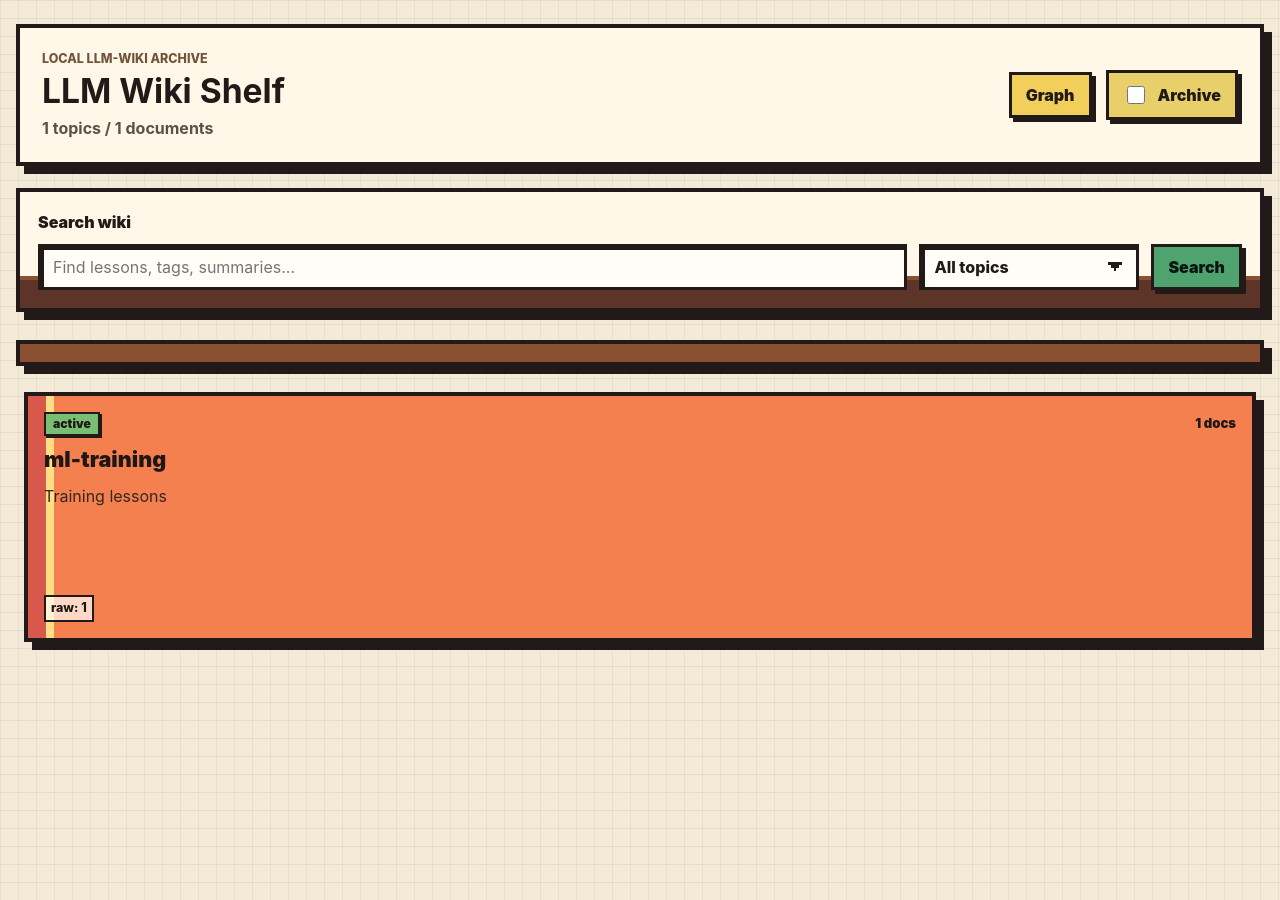
it: App › clears search results when archive visibility changes
Click the checkbox labelled "Archive" at x=1136, y=95, box [1126,86,1144,104]
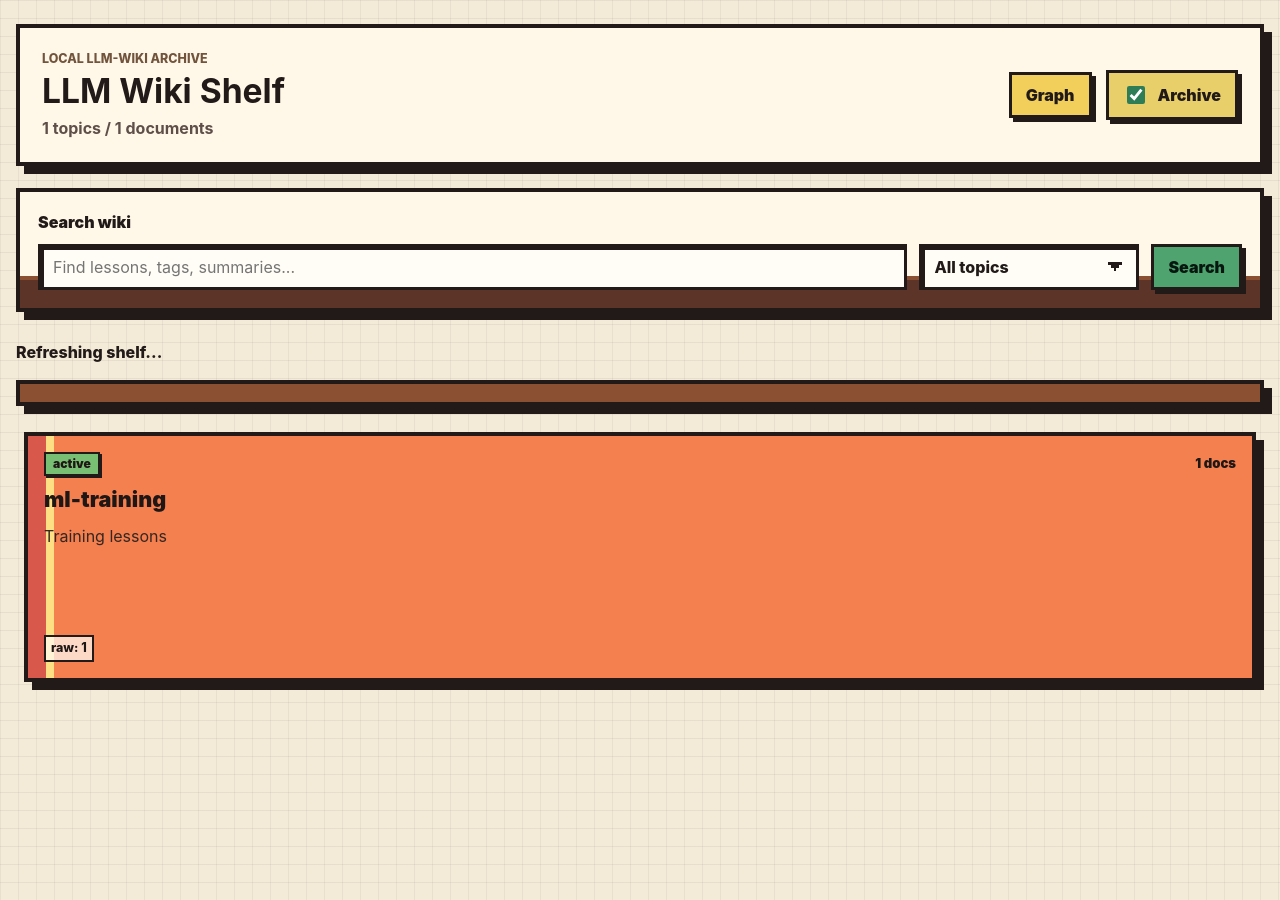
Type "legacy" into the search field labelled "Search wiki" at x=473, y=267, box [38,244,908,290]
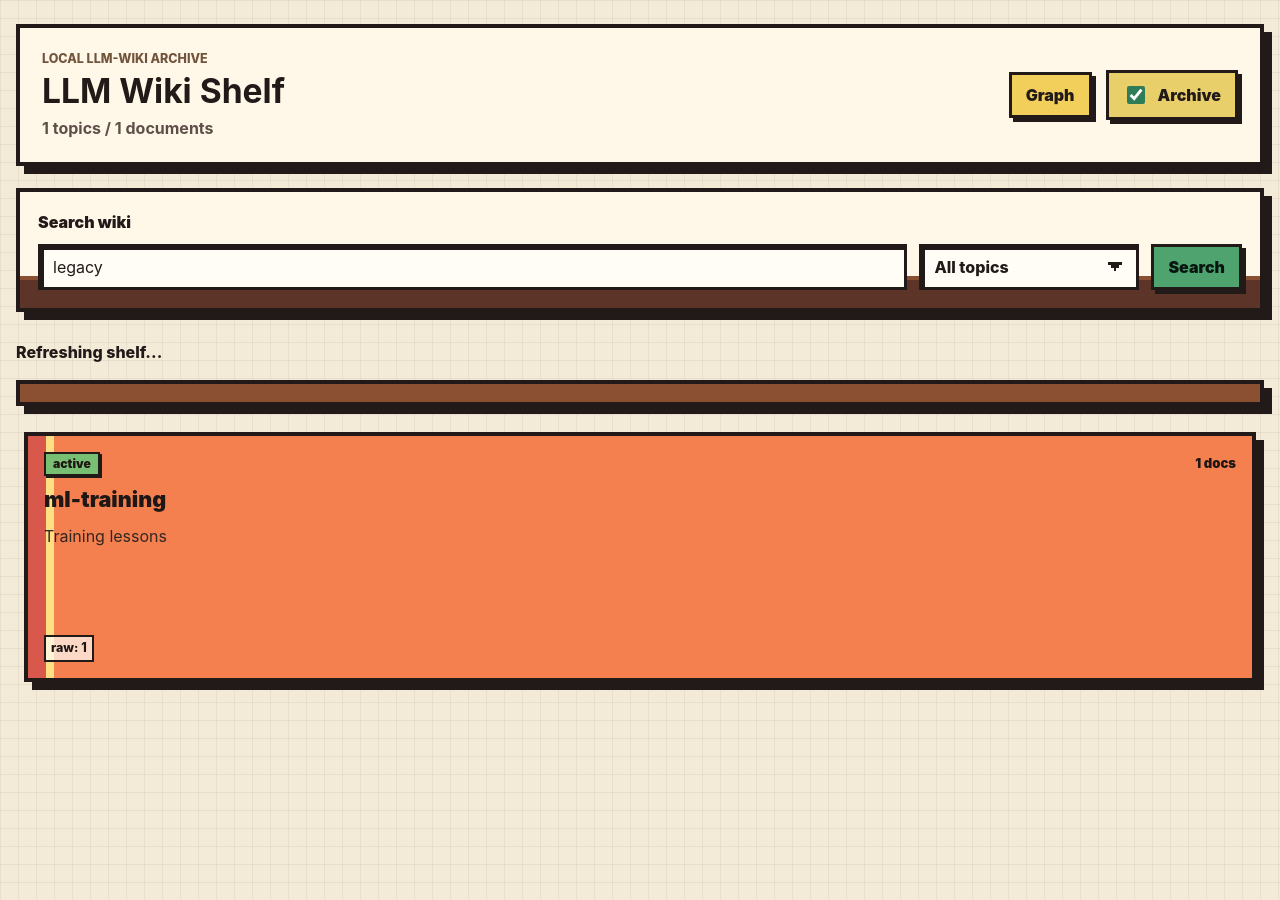
Click the button "Search" at x=1197, y=267, box [1152,244,1242,290]
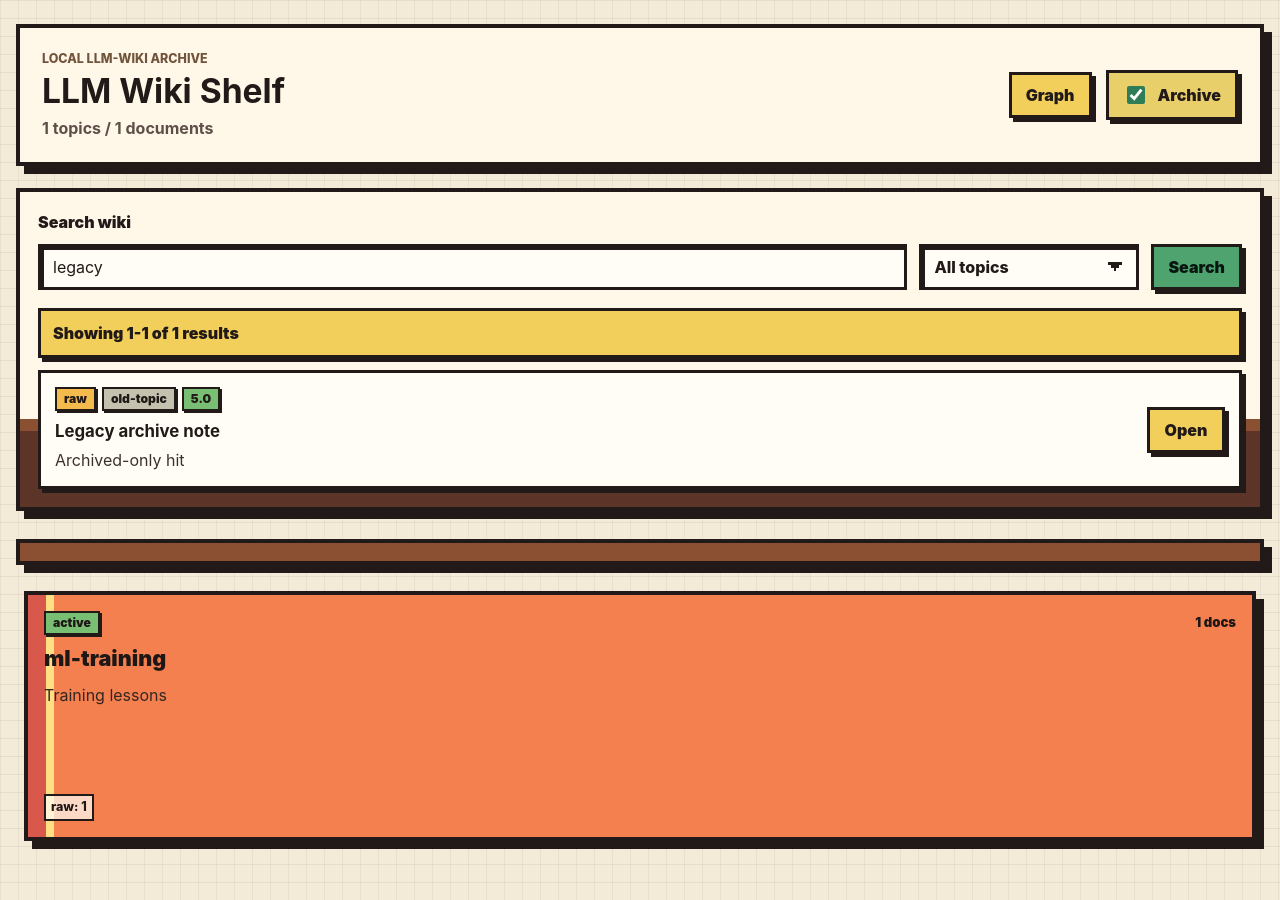
Expected: the heading "Legacy archive note" is shown, [55,421,220,441]
Click the checkbox labelled "Archive" at x=1136, y=95, box [1126,86,1144,104]
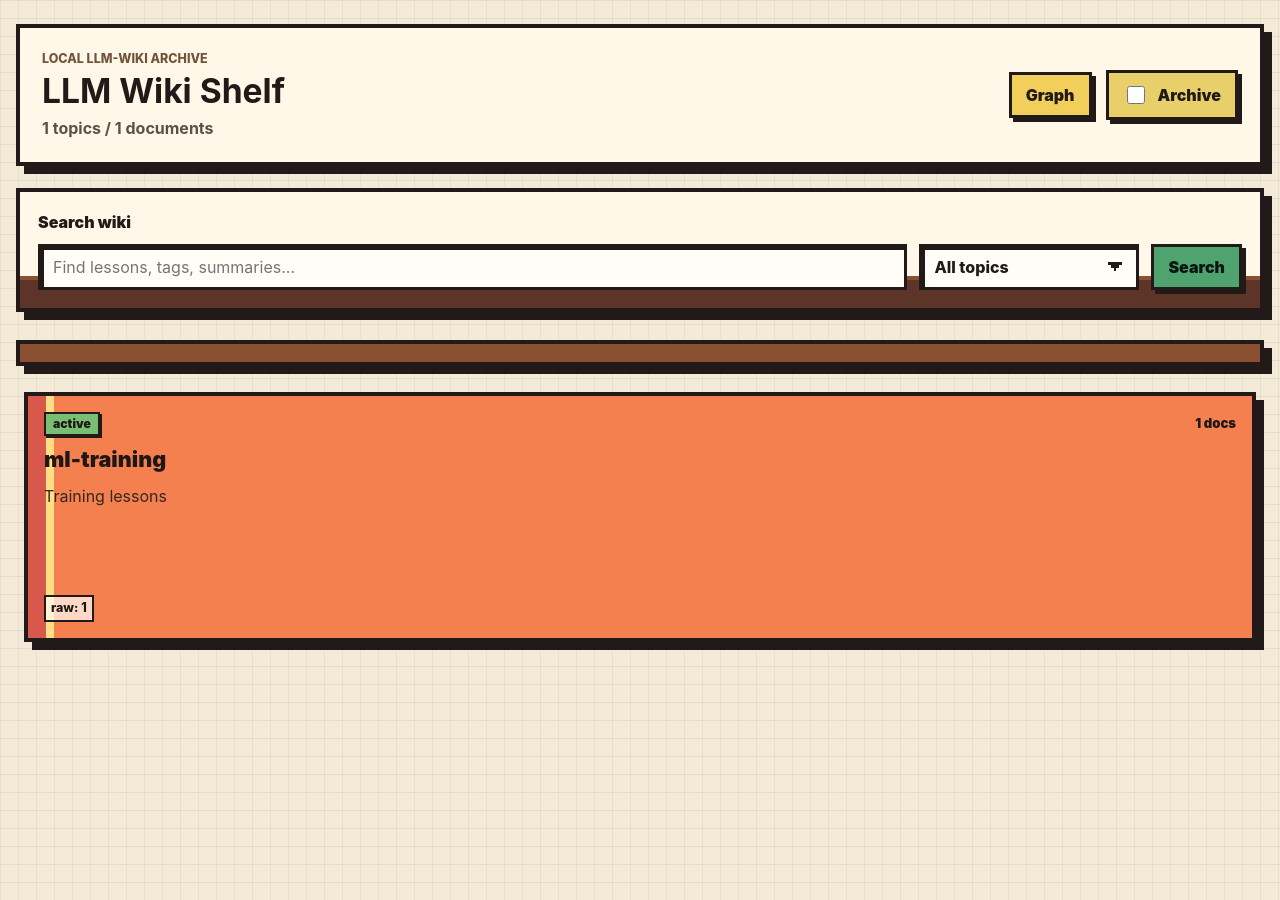
Expected: the heading "Legacy archive note" is gone
Expected: the search field labelled "Search wiki" is empty, [38,244,908,290]
